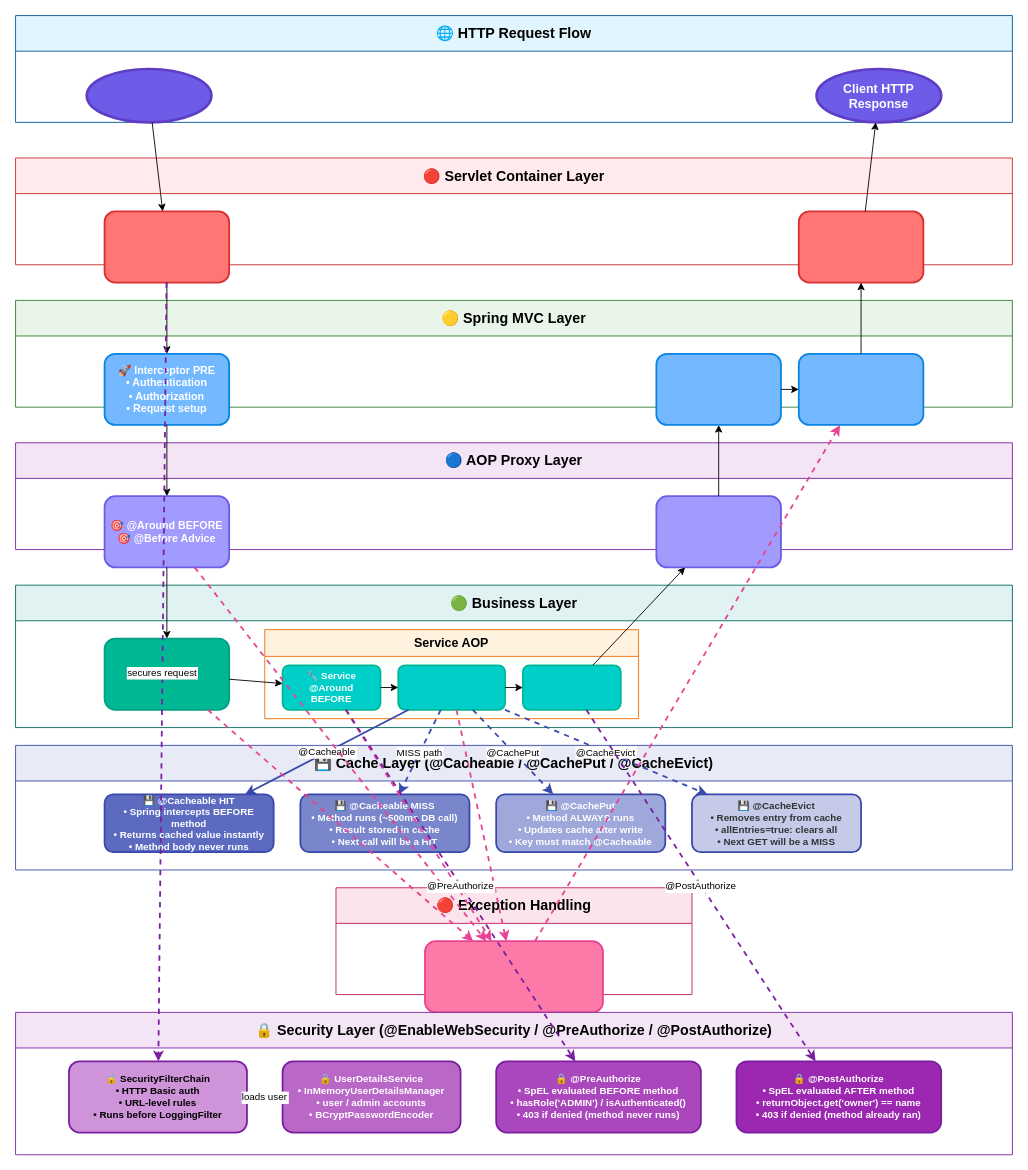
The diagram is 1028 pixels wide and 1170 high, and some of its shapes have lost their labels. The centre of each missing label's shape, as x and y in pixels:
"Client HTTP Request" goes at pixel 148 95.
"❌ GlobalExceptionHandler • Error mapping • Error responses" goes at pixel 513 976.
"🎯 @Around AFTER 🎯 @After Advice 🎯 @AfterReturning" goes at pixel 718 531.
"📋 Controller • Request mapping • Validation • Orchestration" goes at pixel 166 673.
"🔥 Filter AFTER • Response logging • Cleanup • Duration" goes at pixel 860 246.
"🔥 Filter BEFORE • Logging • Headers • Timing" goes at pixel 166 246.
"🔧 Service @Around AFTER" goes at pixel 571 687.
"🔧 Service Logic • Business rules • Data processing" goes at pixel 451 687.
"🚀 Interceptor AFTER • Final cleanup • Exception handling" goes at pixel 860 388.
"🚀 Interceptor POST • ModelAndView • Response modification" goes at pixel 718 388.
